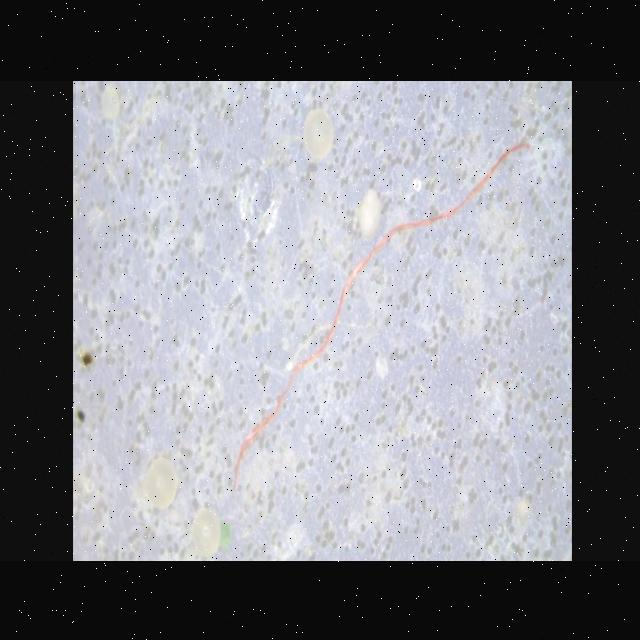Fibre: (230, 138, 532, 494)
